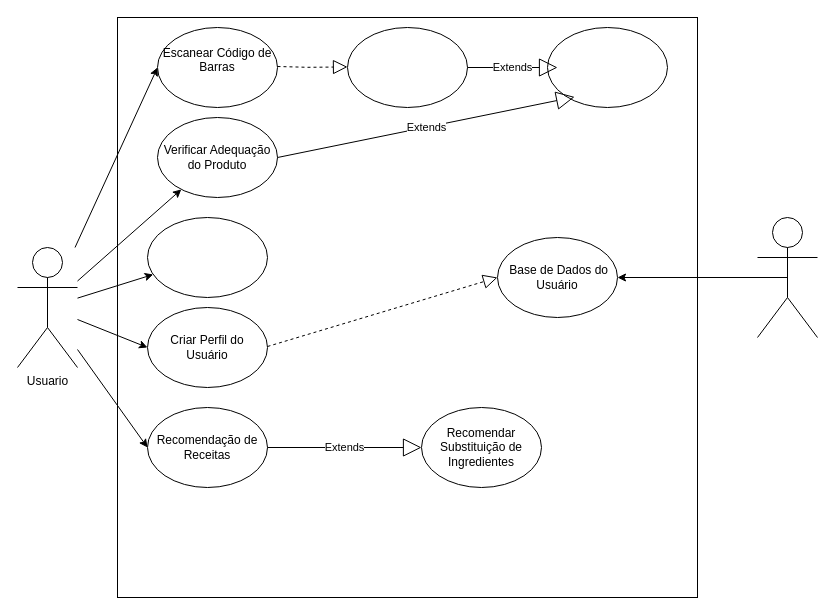
Some shapes in this 835 by 615 pixel diagram are drawn without their labels. Here are the shapes that lost their labels. From the top down, the centre of each, then its label:
the point at 407,67: Consultar Dados Nutricionais
the point at 607,67: Mostrar Alternativa ao Produto
the point at 207,257: Gerenciar Intolerâncias e Alergias
the point at 787,277: Sistema
